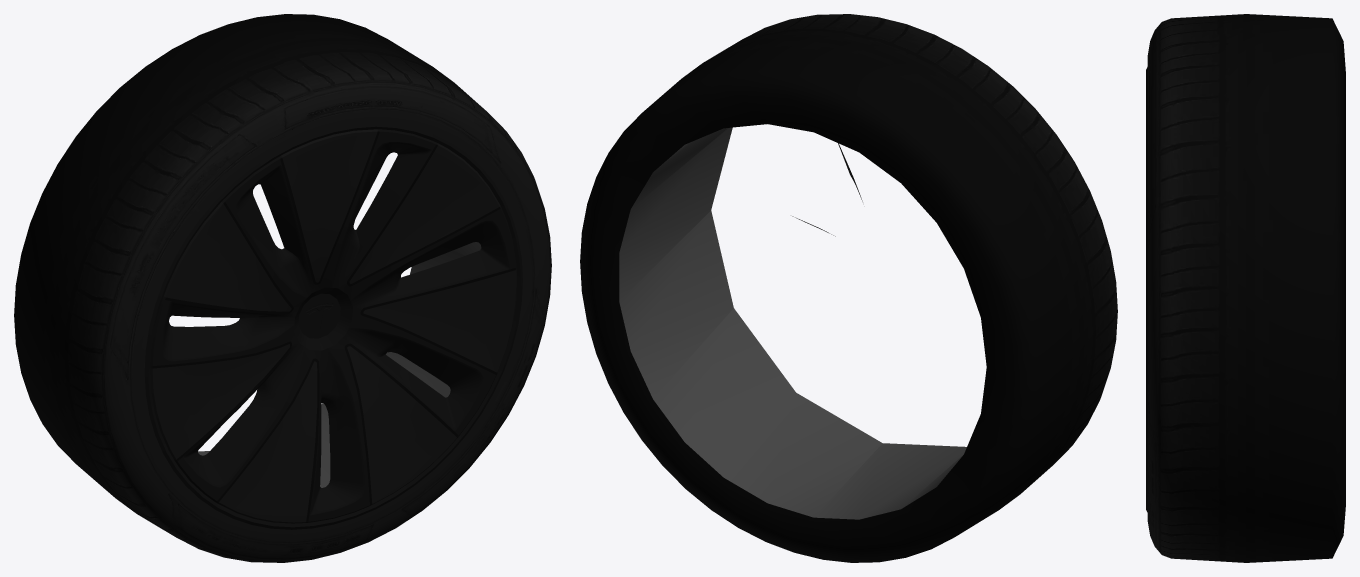
File: Glider.glb
The picture shows the model from 3 angles, left to right: view 1: azimuth 30°, elevation 25°; view 2: azimuth 150°, elevation 25°; view 3: azimuth 270°, elevation 25°; orthographic projection. The views are drawn at different scales.
Visible parts, largest first — view 1: Wheel_Glider; view 2: Wheel_Glider; view 3: Wheel_Glider.
Boxes of the visible parts, bbox=[...] form: Wheel_Glider: bbox=[14, 14, 551, 562]; Wheel_Glider: bbox=[580, 14, 1117, 562]; Wheel_Glider: bbox=[1146, 14, 1345, 562].
Bounding box in the file's own units: 0.6735 × 0.6722 × 0.2451.
2 materials, 2 textured.
